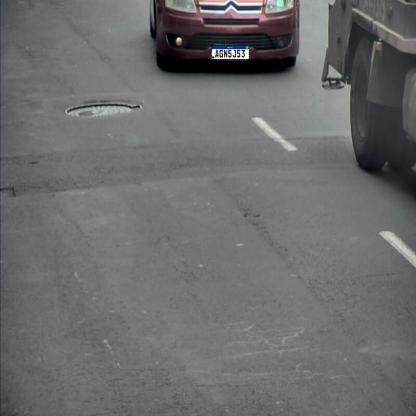PlacaM: (211, 45, 250, 60)
